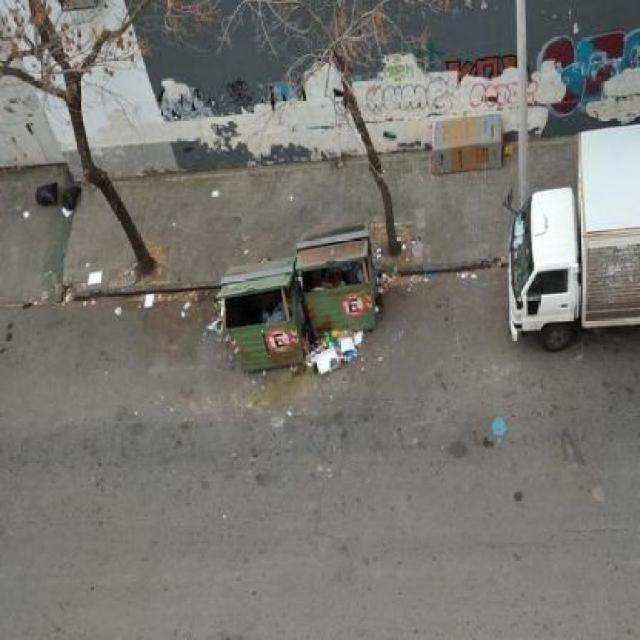garbage: (301, 329, 366, 374), (25, 176, 88, 215), (76, 255, 122, 300), (207, 285, 226, 352)
